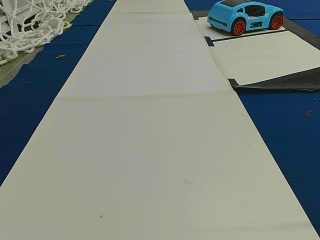car: (207, 2, 285, 35)
